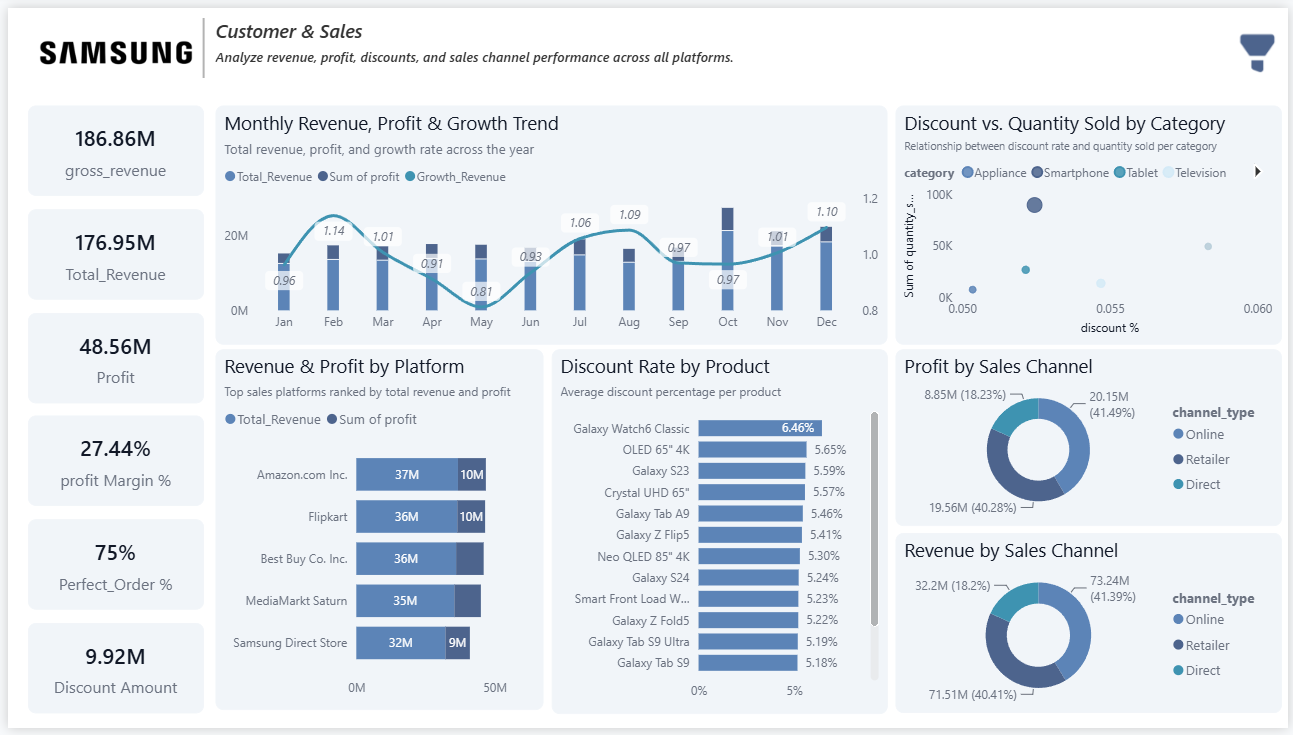

The dashboard page shown, as its layout file describes it:
{"tool":"powerbi","page":{"name":"Customer","canvas":[1280,720],"ordinal":5},"visuals":[{"type":"shape","title":"Customer & Sales","box":[207.2,9.6,532.5,61.4],"z":0},{"type":"shape","box":[171.2,10,48.8,60],"z":1000},{"type":"image","box":[20,8.8,168.8,71.2],"z":2000},{"type":"card","fields":{"Values":["Measure Table.profit Margin %"]},"box":[20,408,176,90],"z":3000},{"type":"card","fields":{"Values":["Measure Table.Perfect_Order %"]},"box":[20,511.5,176,90],"z":4000},{"type":"card","fields":{"Values":["Sum(fact_sales.discount_amount)"]},"box":[20,615,176,90],"z":5000},{"type":"card","fields":{"Values":["Measure Table.Profit"]},"box":[20,304.5,176,90],"z":6000},{"type":"card","fields":{"Values":["Measure Table.Total_Revenue"]},"box":[20,201,176,90],"z":7000},{"type":"card","fields":{"Values":["Sum(fact_sales.gross_revenue)"]},"box":[20,97.5,176,90],"z":8000},{"type":"donutChart","title":"Profit by Sales Channel","fields":{"Category":["dim_customer.channel_type"],"Y":["Measure Table.Profit"]},"box":[887.5,341.8,386.2,176.6],"z":9000},{"type":"donutChart","title":"Revenue by Sales Channel","fields":{"Category":["dim_customer.channel_type"],"Y":["Measure Table.Total_Revenue"]},"box":[887.5,525.2,386.2,180],"z":10000},{"type":"lineStackedColumnComboChart","title":"Monthly Revenue, Profit & Growth Trend","fields":{"Category":["dim_date.Month_short"],"Y":["Measure Table.Total_Revenue","Sum(fact_sales.profit)"],"Y2":["Measure Table.Growth_Revenue"]},"box":[207.3,98,672.2,239.2],"z":11000},{"type":"barChart","title":"Revenue & Profit by Platform","fields":{"Category":["dim_customer.customer_name"],"Y":["Measure Table.Total_Revenue","Sum(fact_sales.profit)"]},"box":[207.3,341.8,328,361.1],"z":12000},{"type":"scatterChart","title":"Discount vs. Quantity Sold by Category","fields":{"Y":["Sum(fact_sales.quantity_sold)"],"X":["Measure Table.discount %"],"Series":["dim_product.category"],"Size":["Measure Table.Total_Revenue"]},"box":[887.5,98,386.2,239.2],"z":13000},{"type":"clusteredBarChart","title":"Discount Rate by Product","fields":{"Category":["dim_product.product_name"],"Y":["Measure Table.discount %"]},"box":[543.4,340.6,336.1,364.6],"z":14000},{"type":"actionButton","title":"Button-open","box":[1218.8,8.8,61.2,71.2],"z":17003}]}

Visuals, with their boxes in screenshot pixels (x1, y1, x2, y2), scaled from the page's 1280x720 canvas onto the 1293x735 screenshot:
"Customer & Sales" shape: pyautogui.locateOnScreen(209, 10, 747, 72)
shape: pyautogui.locateOnScreen(173, 10, 222, 71)
image: pyautogui.locateOnScreen(20, 9, 191, 82)
card - Measure Table.profit Margin %: pyautogui.locateOnScreen(20, 416, 198, 508)
card - Measure Table.Perfect_Order %: pyautogui.locateOnScreen(20, 522, 198, 614)
card - Sum(fact_sales.discount_amount): pyautogui.locateOnScreen(20, 628, 198, 720)
card - Measure Table.Profit: pyautogui.locateOnScreen(20, 311, 198, 403)
card - Measure Table.Total_Revenue: pyautogui.locateOnScreen(20, 205, 198, 297)
card - Sum(fact_sales.gross_revenue): pyautogui.locateOnScreen(20, 100, 198, 191)
"Profit by Sales Channel" donutChart: pyautogui.locateOnScreen(897, 349, 1287, 529)
"Revenue by Sales Channel" donutChart: pyautogui.locateOnScreen(897, 536, 1287, 720)
"Monthly Revenue, Profit & Growth Trend" lineStackedColumnComboChart: pyautogui.locateOnScreen(209, 100, 888, 344)
"Revenue & Profit by Platform" barChart: pyautogui.locateOnScreen(209, 349, 541, 718)
"Discount vs. Quantity Sold by Category" scatterChart: pyautogui.locateOnScreen(897, 100, 1287, 344)
"Discount Rate by Product" clusteredBarChart: pyautogui.locateOnScreen(549, 348, 888, 720)
"Button-open" actionButton: pyautogui.locateOnScreen(1231, 9, 1292, 82)
